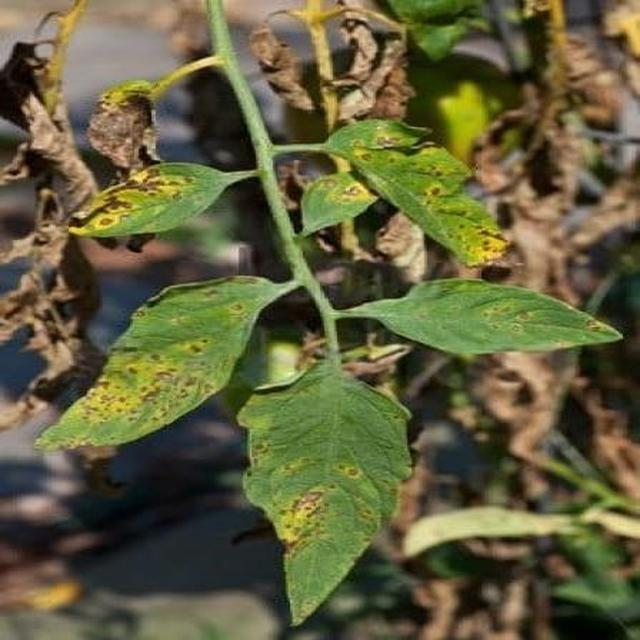Septoria Leaf: (112, 93, 640, 640)
